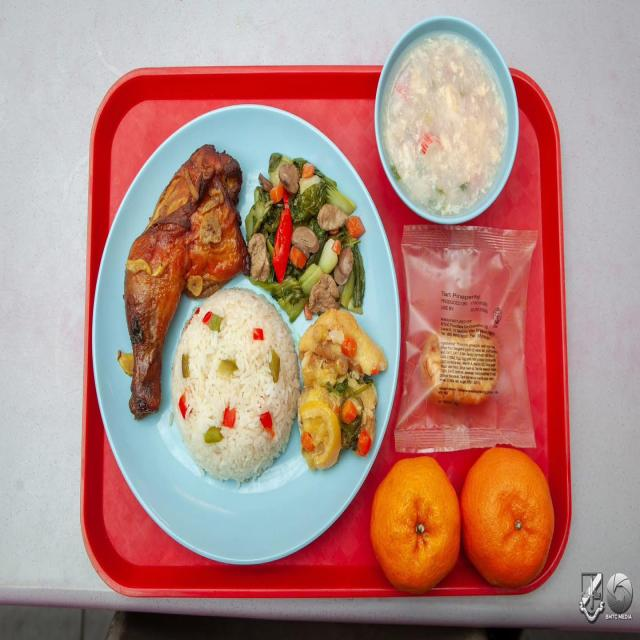Chicken: (124, 145, 248, 419)
Fruits: (371, 447, 554, 592)
Green veg: (245, 168, 364, 321), (268, 153, 306, 183)
Non green veg: (298, 309, 387, 471)
Rice: (172, 289, 300, 483)
